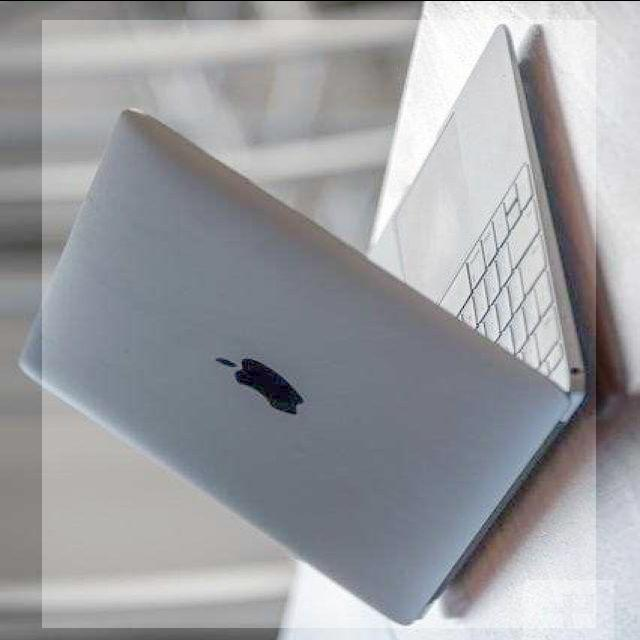-keyboard-: (42, 21, 596, 628)
